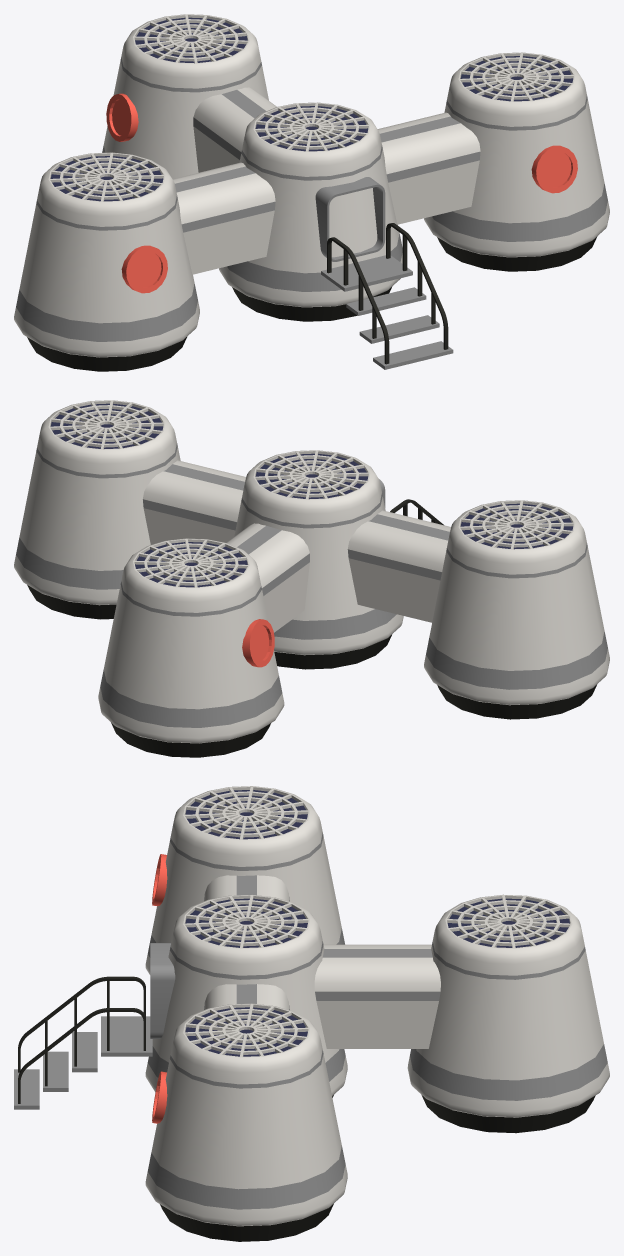
Rendered from 02 Space_house.FBX.
3 views of the same model, one above another, from view 1: azimuth 30°, elevation 25°; view 2: azimuth 150°, elevation 25°; view 3: azimuth 270°, elevation 25° (orthographic). The views are drawn at different scales.
Visible parts, largest first — view 1: Space_house; view 2: Space_house; view 3: Space_house.
Part boxes in pixels (left/top/right/bottom): Space_house: left=14, top=14, right=609, bottom=371; Space_house: left=14, top=400, right=609, bottom=757; Space_house: left=14, top=786, right=609, bottom=1241.
Size of the model in its own units: 8358 by 2265 by 6950.
